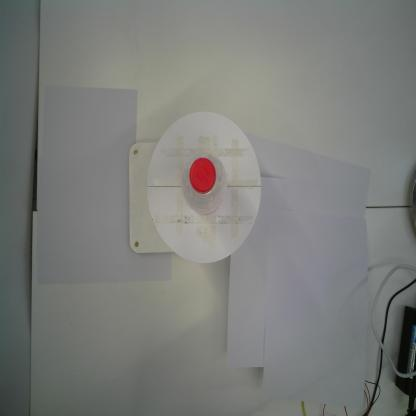Drink: (179, 150, 229, 219)
